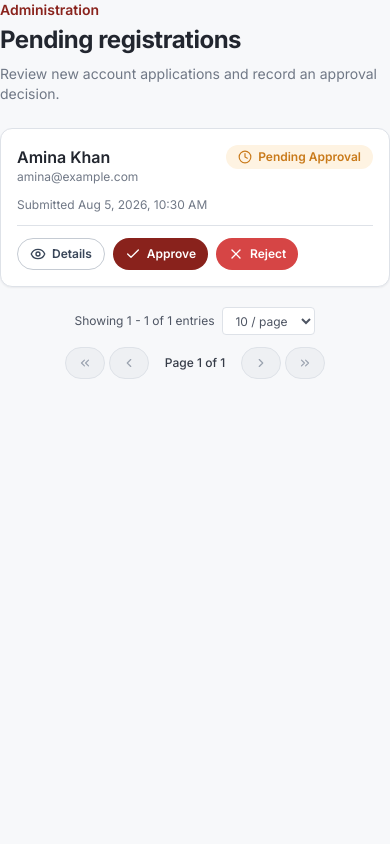
RegistrationsPage › renders pending applicants and loads their details
Click the button "Details" at (61, 254), box [17,238,105,270]
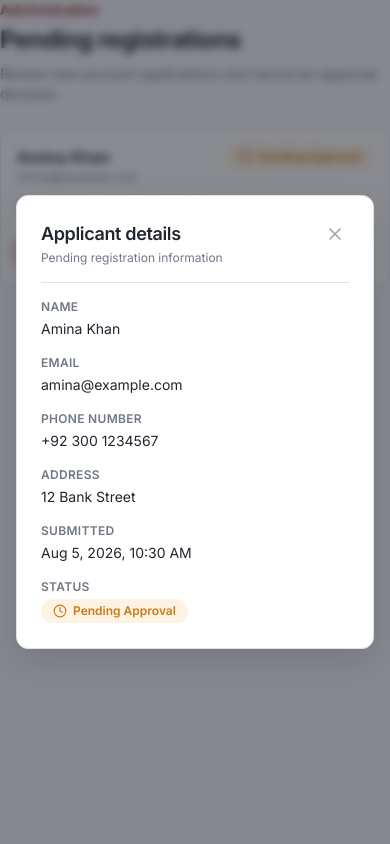
Now the text "+92 300 1234567" is shown, box [41,432,158,449]
